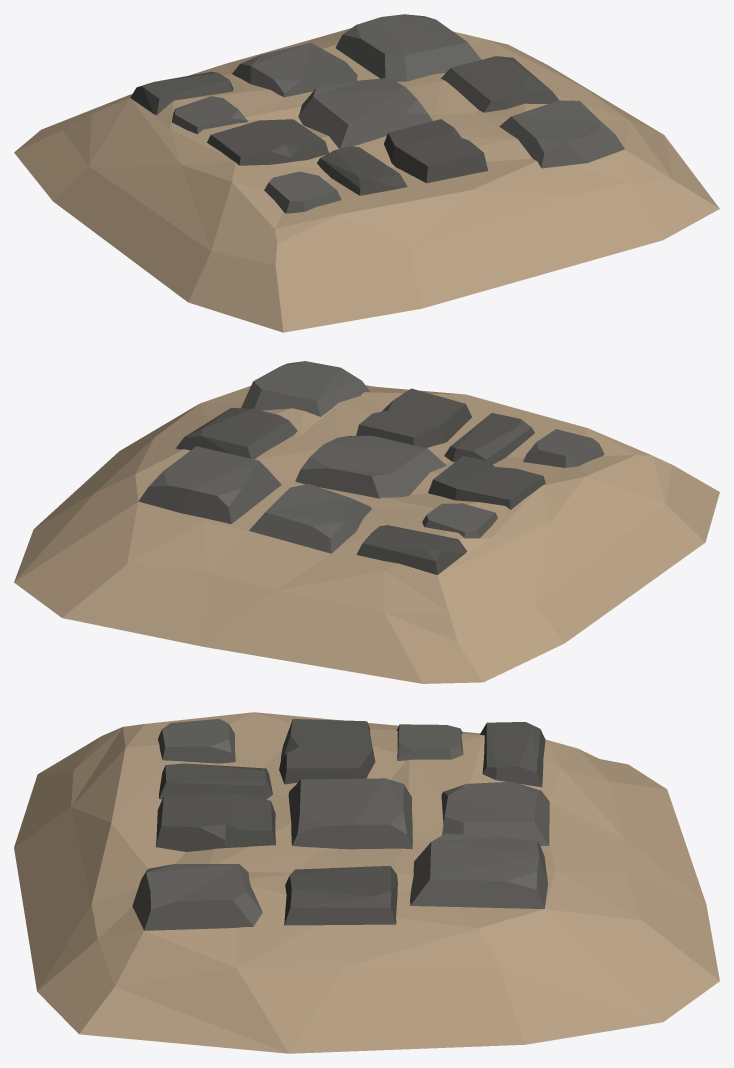
The model's file is kingdom_SM_Env_Path_Brick_Group_06.gltf.
3 renders of one model, top to bottom at view 1: azimuth 30°, elevation 25°; view 2: azimuth 150°, elevation 25°; view 3: azimuth 270°, elevation 25°, orthographic. The views are drawn at different scales.
Visible parts, largest first — view 1: SM_Env_Path_Brick_Group_06; view 2: SM_Env_Path_Brick_Group_06; view 3: SM_Env_Path_Brick_Group_06.
Part boxes in pixels (box(x1,y1,x2,y2)): SM_Env_Path_Brick_Group_06: box(14, 14, 719, 332); SM_Env_Path_Brick_Group_06: box(14, 361, 719, 683); SM_Env_Path_Brick_Group_06: box(14, 712, 719, 1053).
Bounding box in the file's own units: 4.12 × 0.6255 × 4.06.
Materials: 1 (1 with a texture image).
